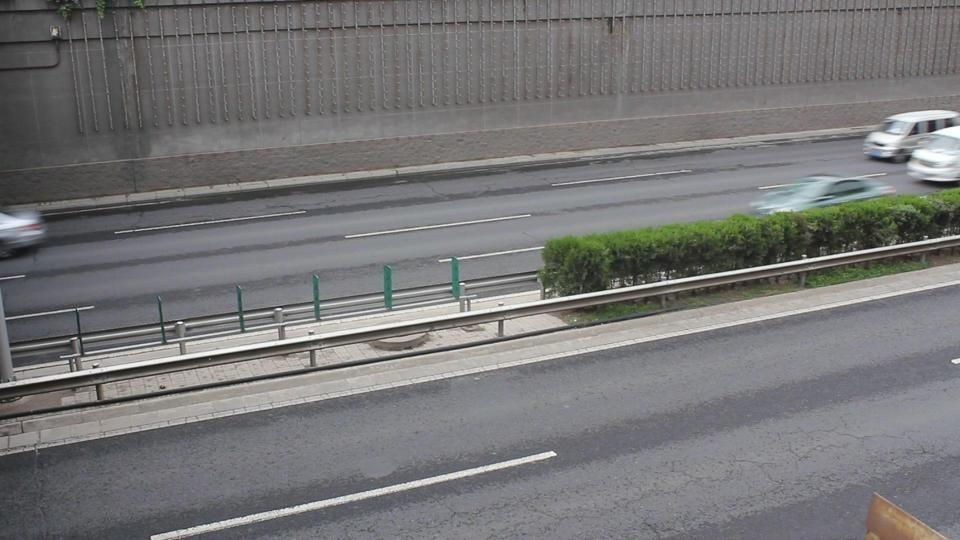car: (748, 175, 898, 218), (861, 109, 960, 163), (906, 125, 960, 185), (0, 208, 49, 260)
